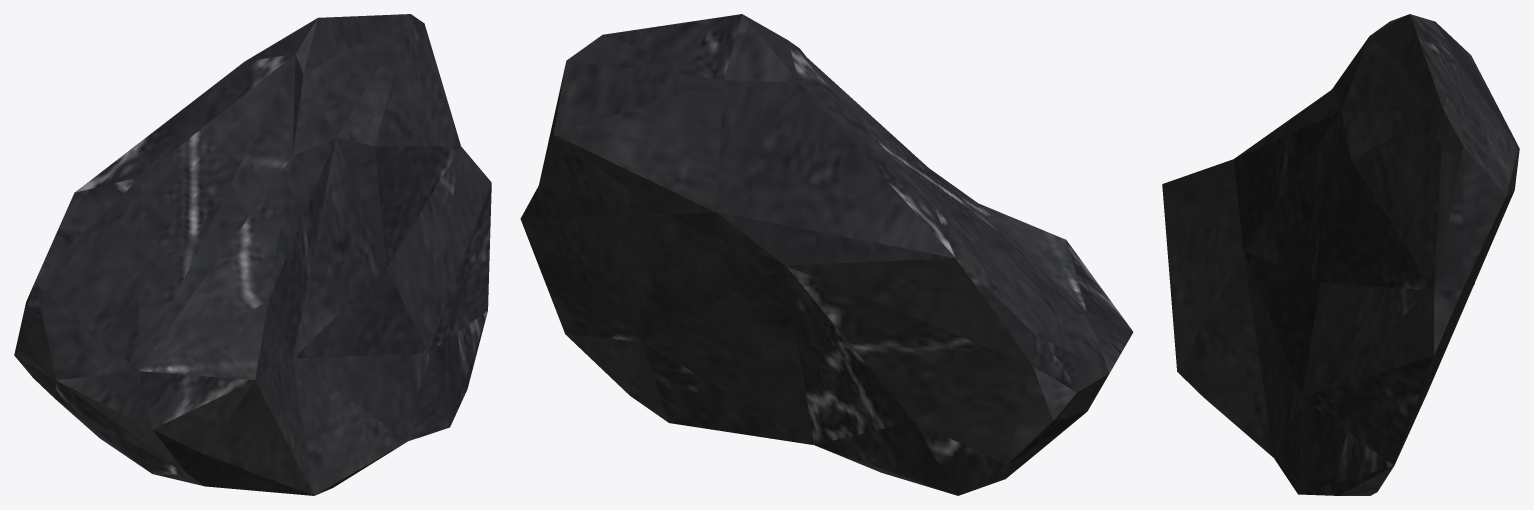
The model's file is rock-black.glb.
The picture shows the model from 3 angles, left to right: view 1: azimuth 30°, elevation 25°; view 2: azimuth 150°, elevation 25°; view 3: azimuth 270°, elevation 25°; orthographic projection. The views are drawn at different scales.
Visible parts, largest first — view 1: Object.074; view 2: Object.074; view 3: Object.074.
Part boxes in pixels (x1,y1,x2,y2): Object.074: (14,14,491,495); Object.074: (520,14,1133,495); Object.074: (1162,14,1519,495).
Bounding box in the file's own units: 0.5314 × 0.4156 × 0.308.
1 material, 1 textured.
